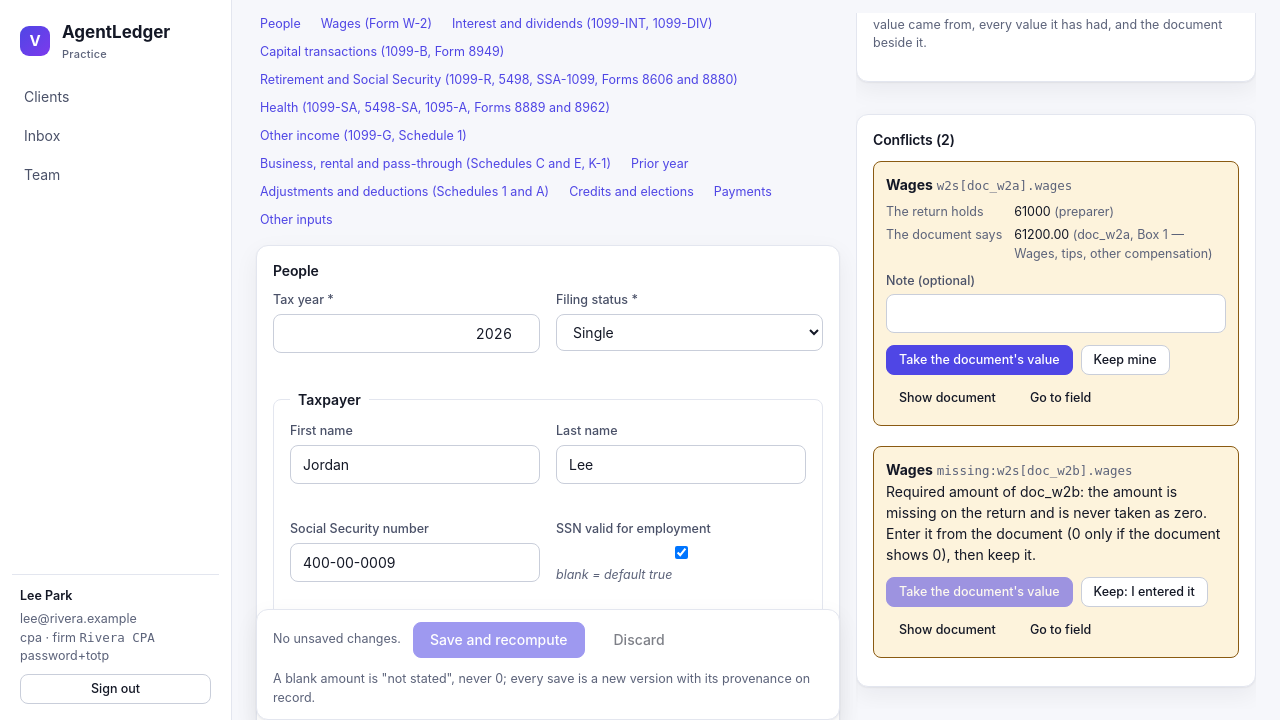
conflicts and dispositions › takes the document's value through the conflicts API
The image size is (1280, 720).
(page scrolled)
Check: the list item with test id "conflict-1" shows "The return holds", box [886,204,984,219]
Check: the list item with test id "conflict-1" shows "61000", box [1014,204,1051,219]
Step 1. Click the button "Take the document's value" below "w2s[doc_w2a].wages" → click(979, 360), box [886,345,1073,375]
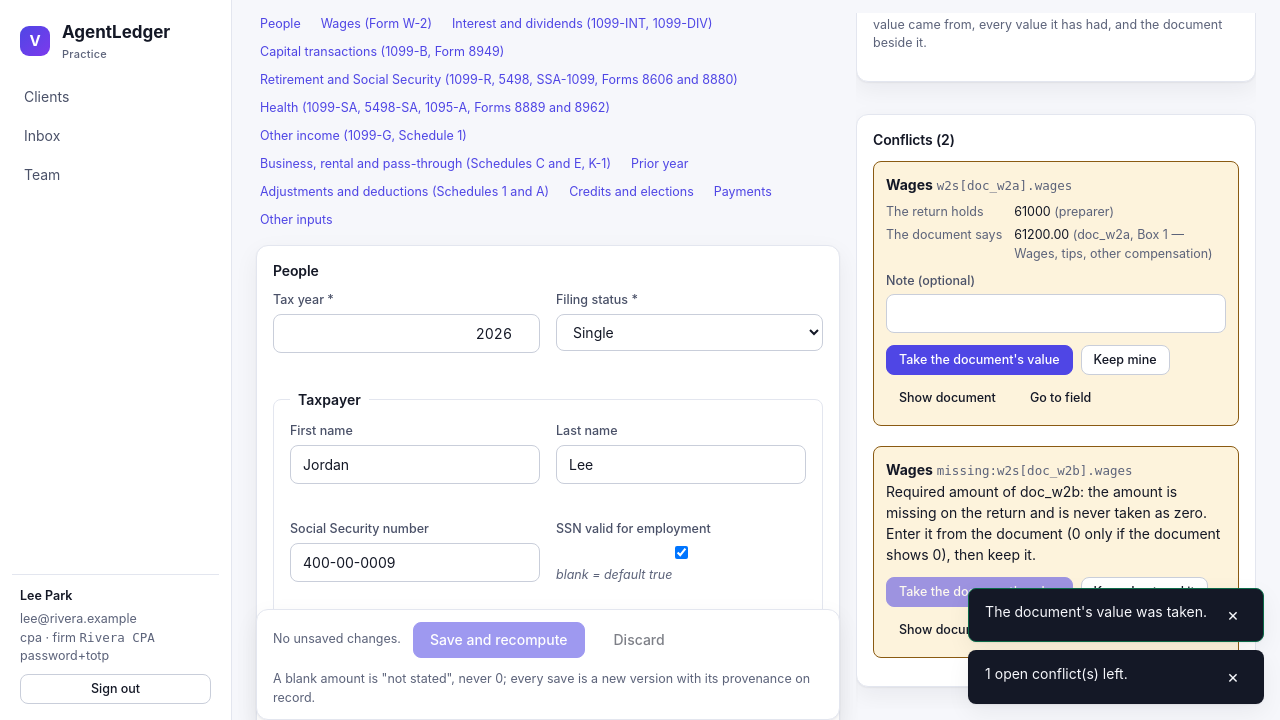
Check: the text "The document's value was taken." is shown, box [985,601,1207,622]
